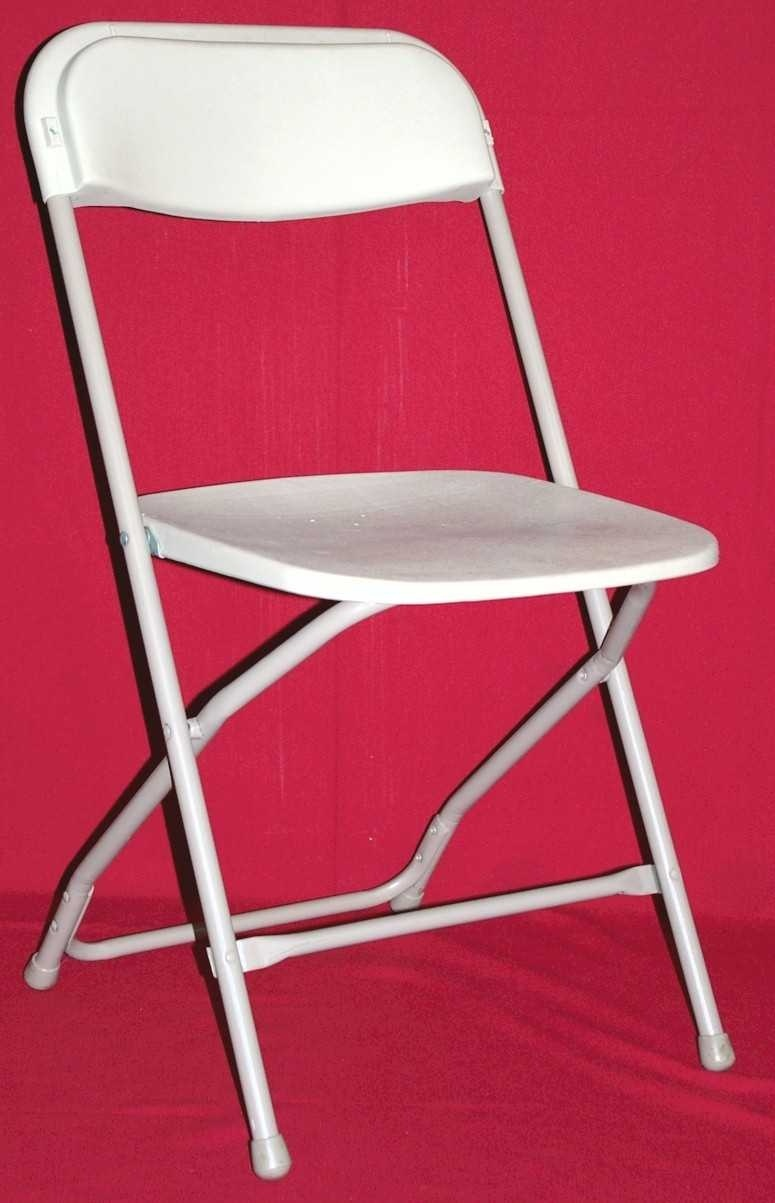obstacle: (23, 22, 733, 1178)
